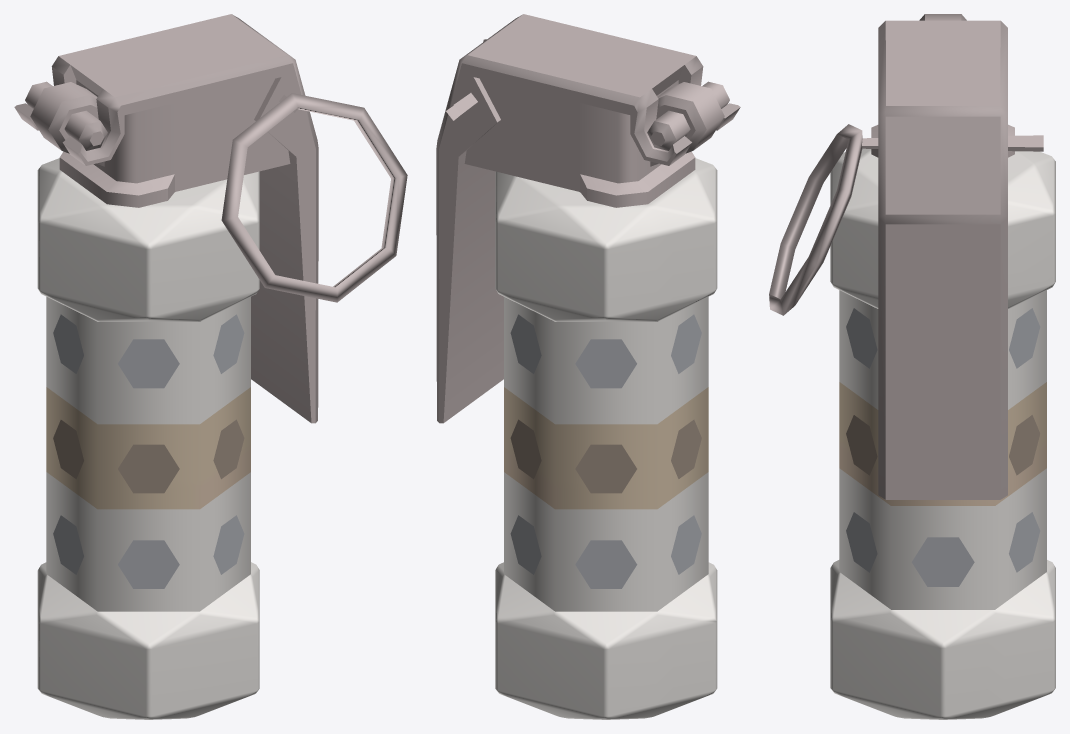
Rendered from Flash.fbx.
The picture shows the model from 3 angles, left to right: view 1: azimuth 30°, elevation 25°; view 2: azimuth 150°, elevation 25°; view 3: azimuth 270°, elevation 25°; orthographic projection.
Visible parts, largest first — view 1: Common_FlashBang3; view 2: Common_FlashBang3; view 3: Common_FlashBang3.
Boxes of the visible parts, x1=… form: Common_FlashBang3: x1=14, y1=14, x2=407, y2=719; Common_FlashBang3: x1=436, y1=14, x2=740, y2=719; Common_FlashBang3: x1=769, y1=14, x2=1055, y2=719.
Bounding box in the file's own units: 0.0578 × 0.1128 × 0.0463.
